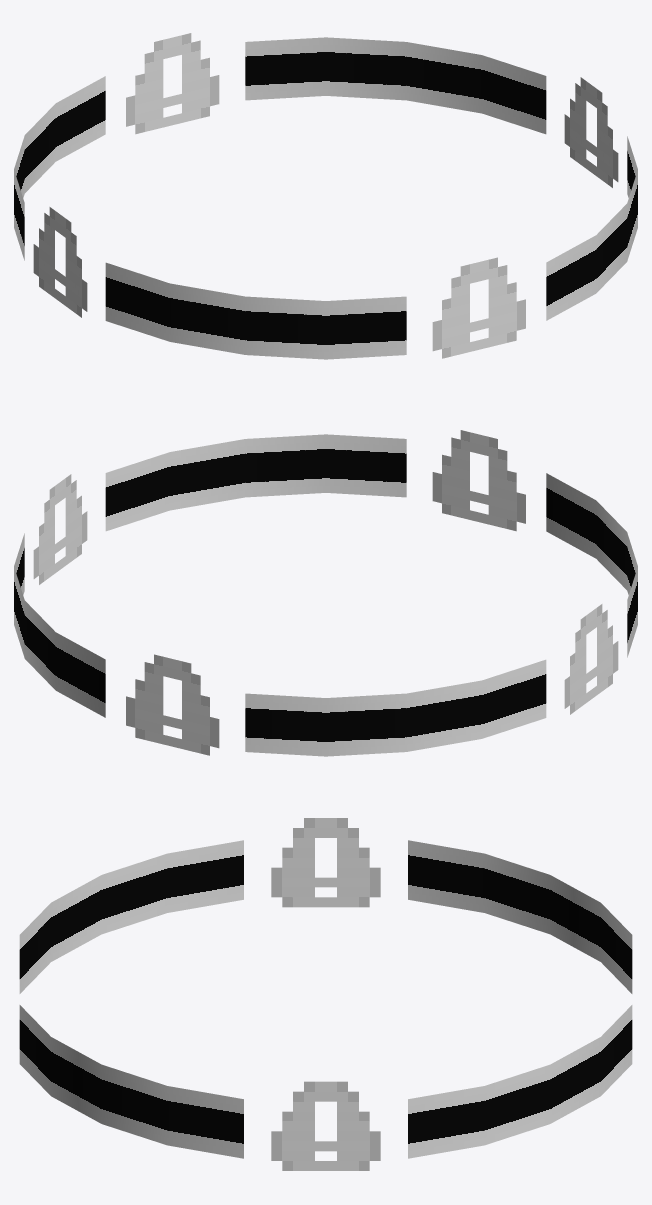
File: BehaviourRing.fbx
3 views of the same model, one above another, from view 1: azimuth 30°, elevation 25°; view 2: azimuth 150°, elevation 25°; view 3: azimuth 270°, elevation 25° (orthographic).
Parts seen in each view (by area): view 1: Ring, Icons; view 2: Ring, Icons; view 3: Ring, Icons.
Part boxes in pixels (left/top/right/bottom): Ring: left=14, top=37, right=637, bottom=359; Icons: left=33, top=33, right=618, bottom=358; Ring: left=14, top=434, right=637, bottom=756; Icons: left=33, top=430, right=618, bottom=755; Ring: left=19, top=840, right=632, bottom=1158; Icons: left=271, top=818, right=380, bottom=1170.
Bounding box in the file's own units: 9.5 × 2 × 9.5.
